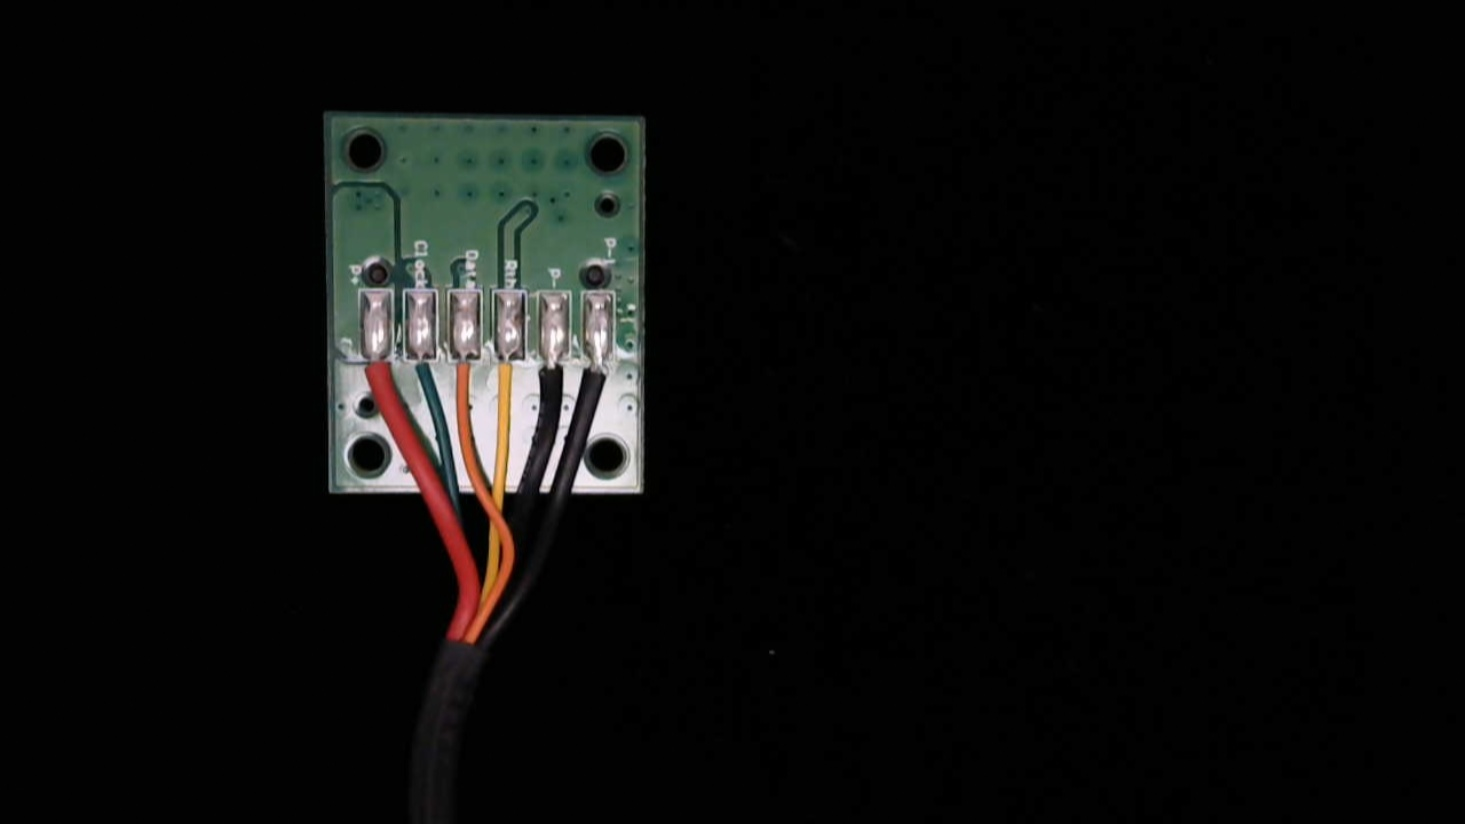Black: (532, 332, 568, 402)
Black1: (581, 334, 620, 404)
Green: (381, 327, 424, 392)
Orange: (431, 330, 474, 395)
Red: (333, 325, 369, 391)
Yellow: (479, 333, 522, 404)
